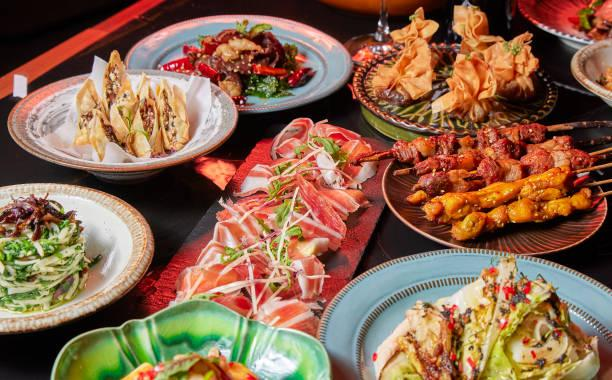Braised Crucian Carp: (319, 247, 610, 377), (4, 55, 242, 179), (353, 0, 559, 139), (117, 9, 351, 123), (380, 137, 607, 252), (74, 50, 188, 160)
